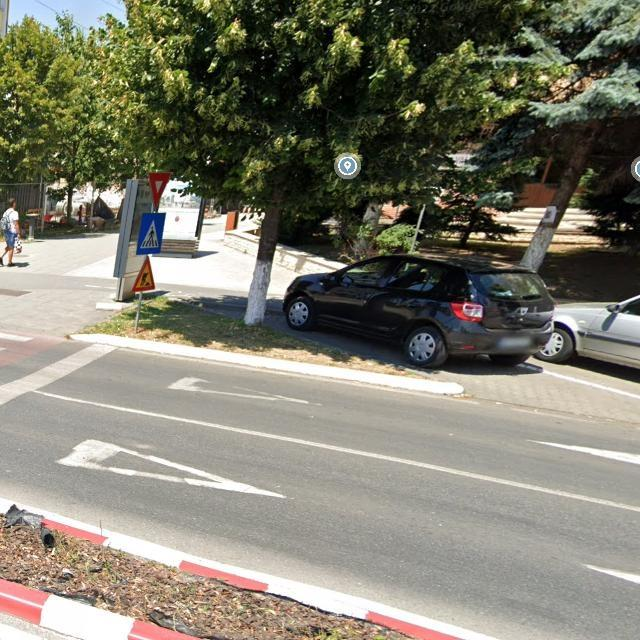info_crosswalk: (135, 212, 165, 255)
prio_give_way: (149, 172, 173, 212)
